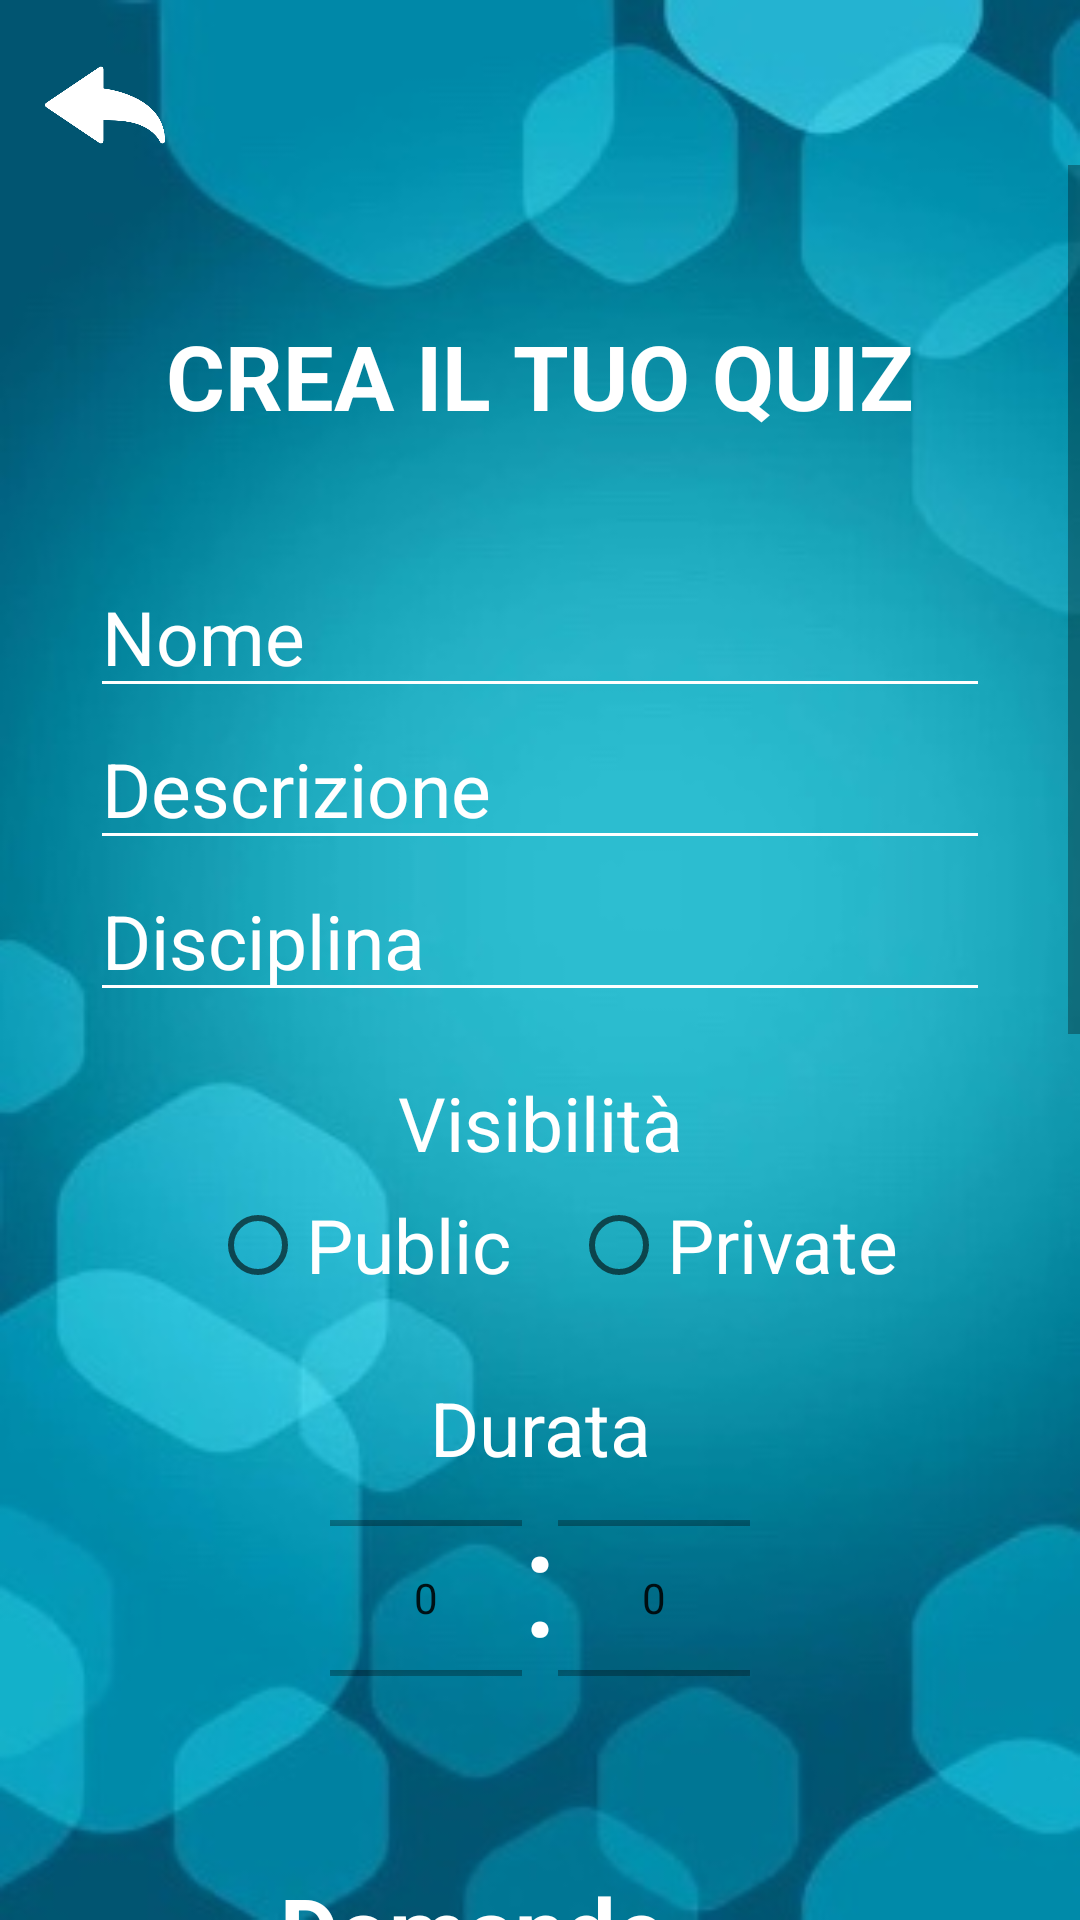

Where to tap for icons on this 1080px x 1920px app screen, as (x=x, y=y):
back: (x=105, y=94)
